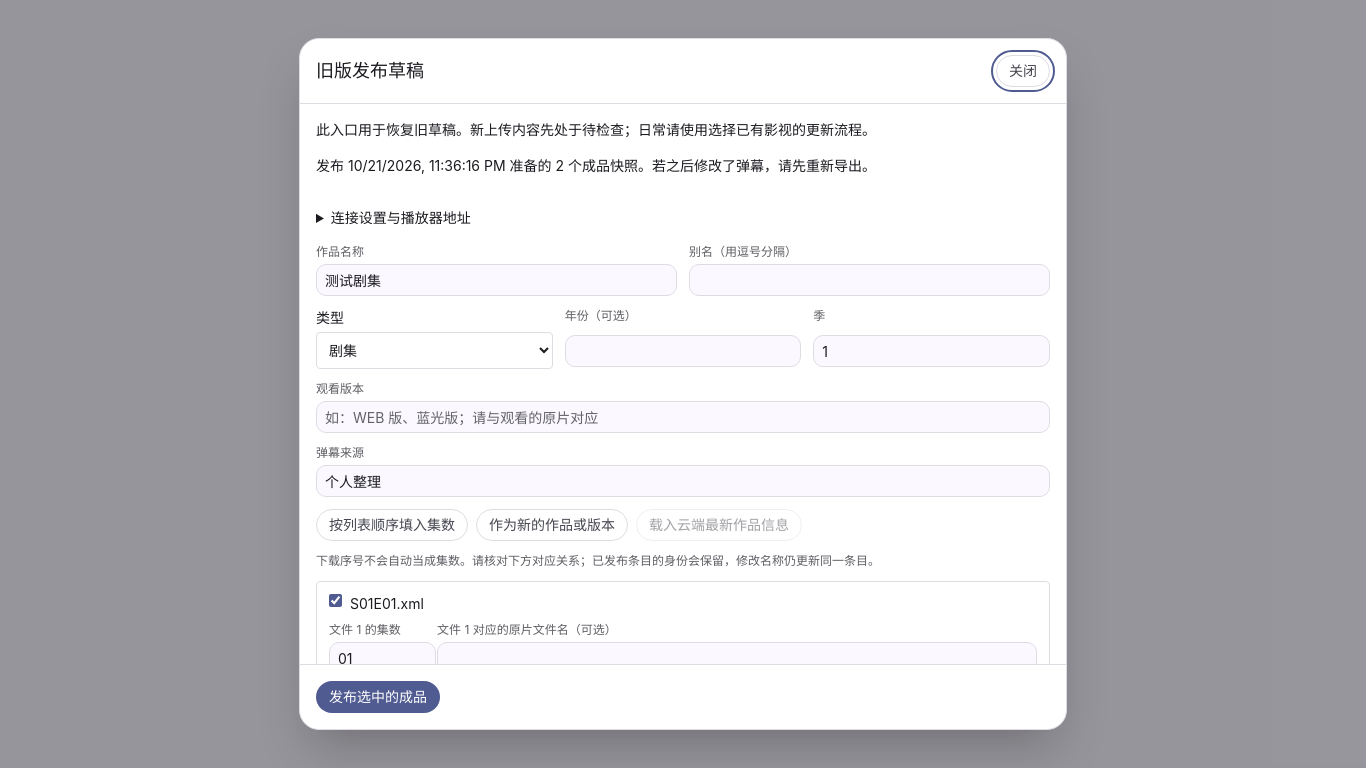
Scenario: private library publication › keeps partial success distinct and allows an idempotent retry
Type "蓝光" into the field labelled "观看版本" at (683, 417), box [316,401,1050,433]
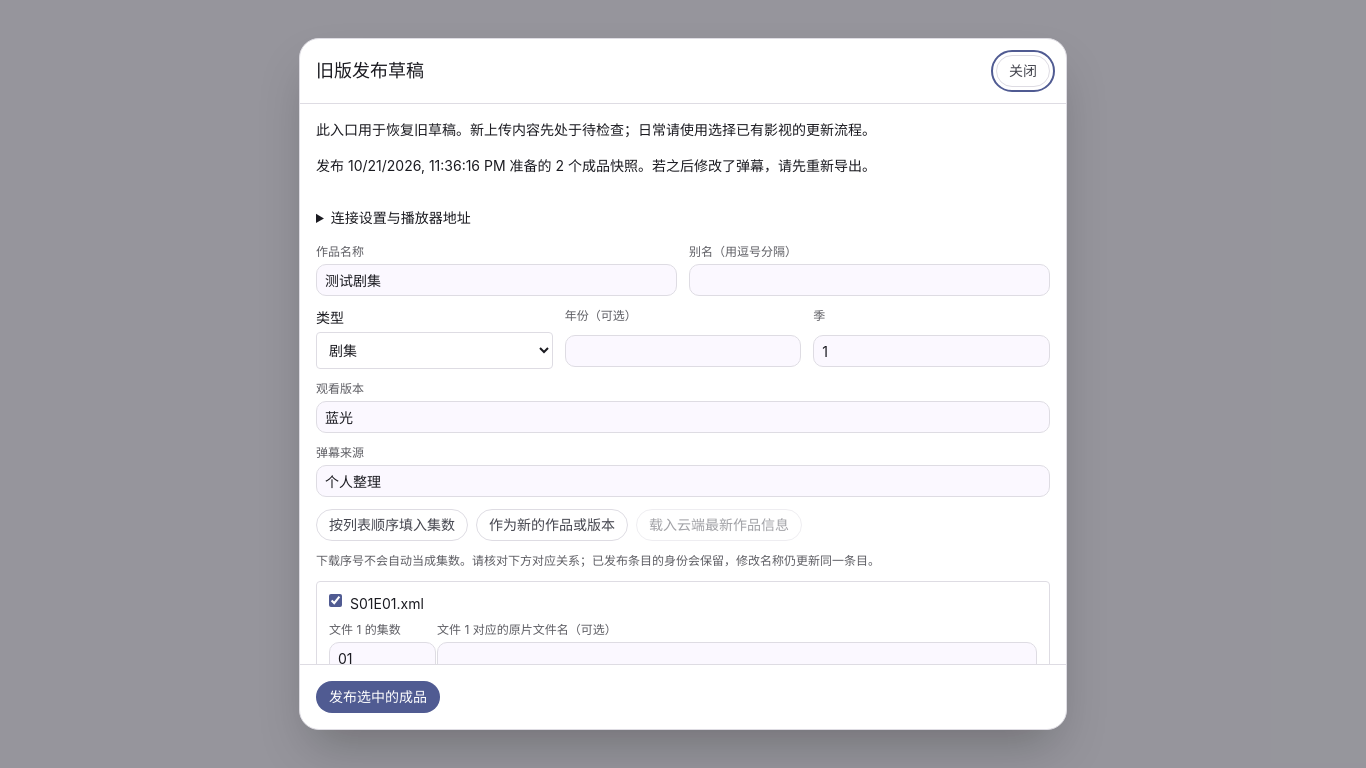
Click the button "发布选中的成品" at (378, 697), box [316,681,440,713]
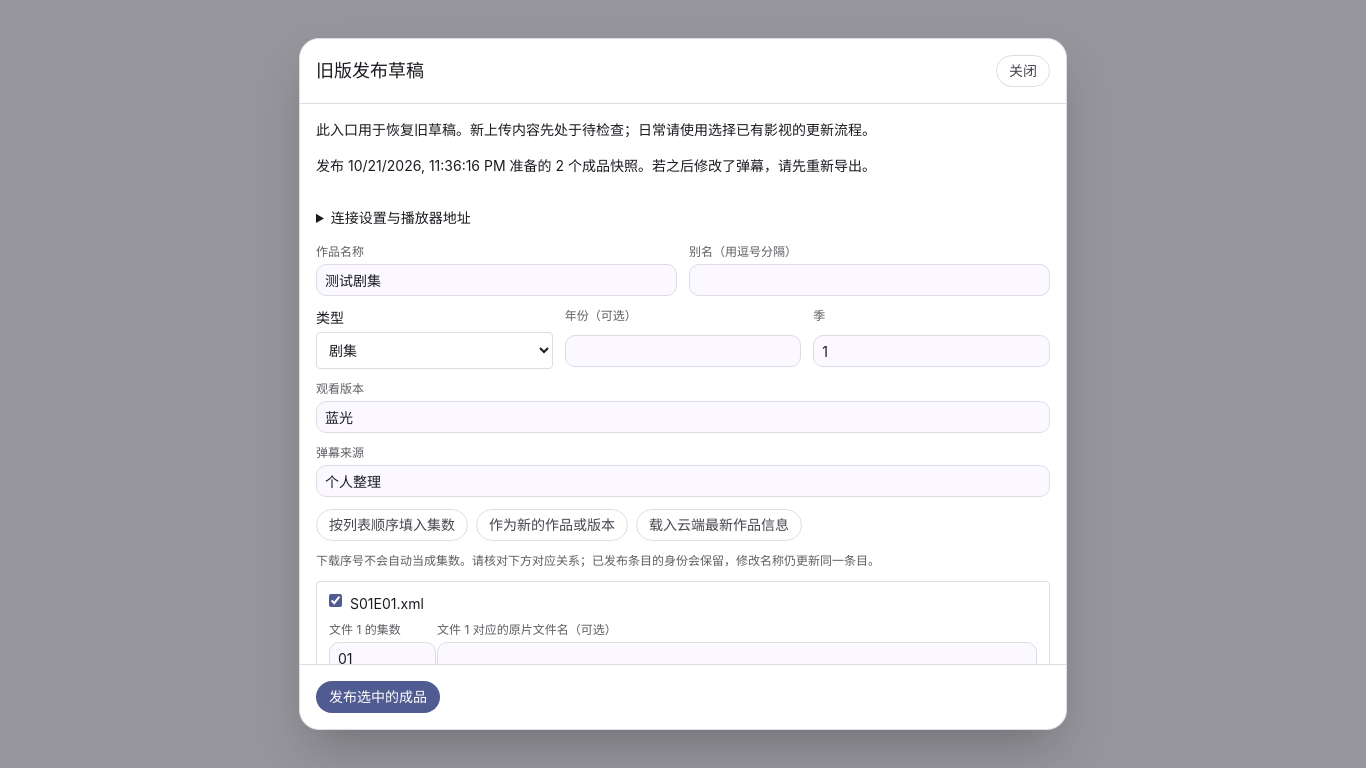
Click the button "发布选中的成品" at (378, 697), box [316,681,440,713]
(page scrolled)
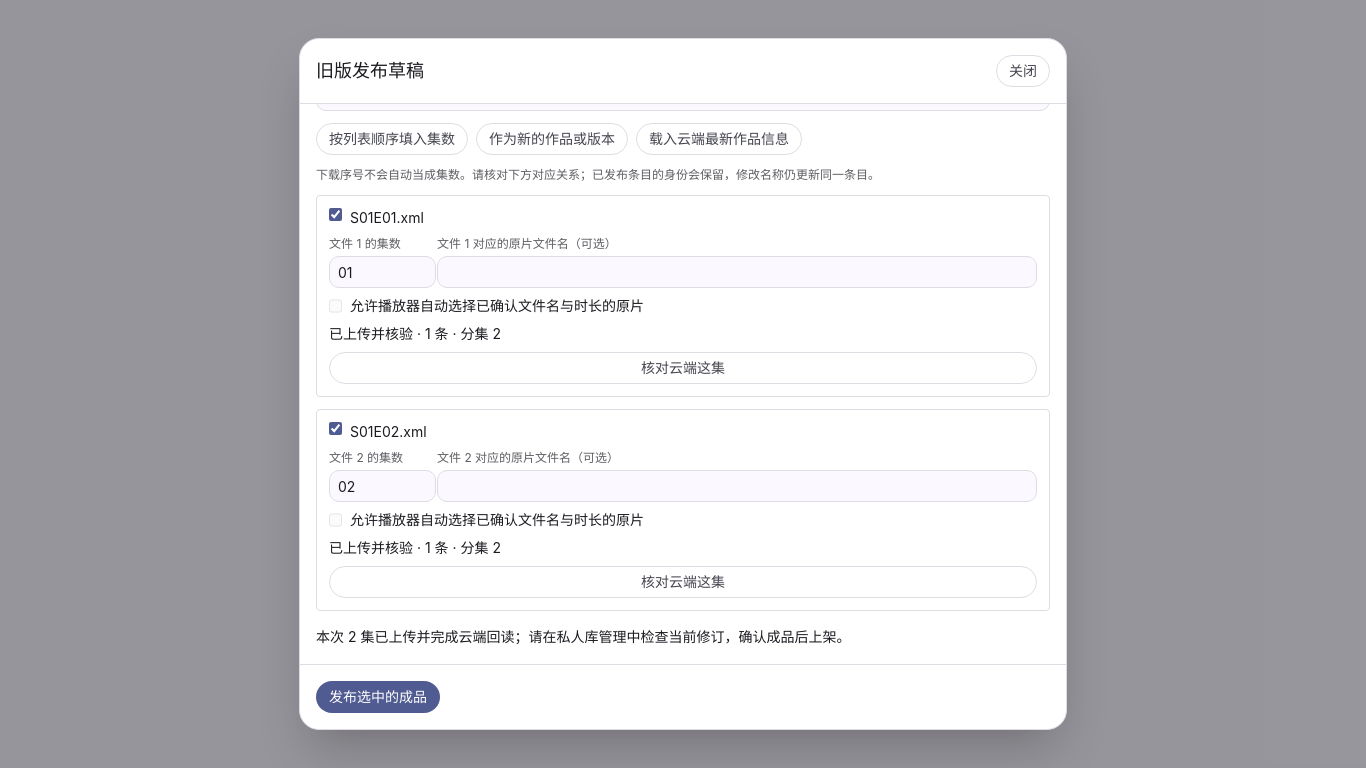
Expected: the text "本次 2 集已上传并完成云端回读；请在私人库管理中检查当前修订，确认成品后上架。" is shown, [316,628,850,645]
